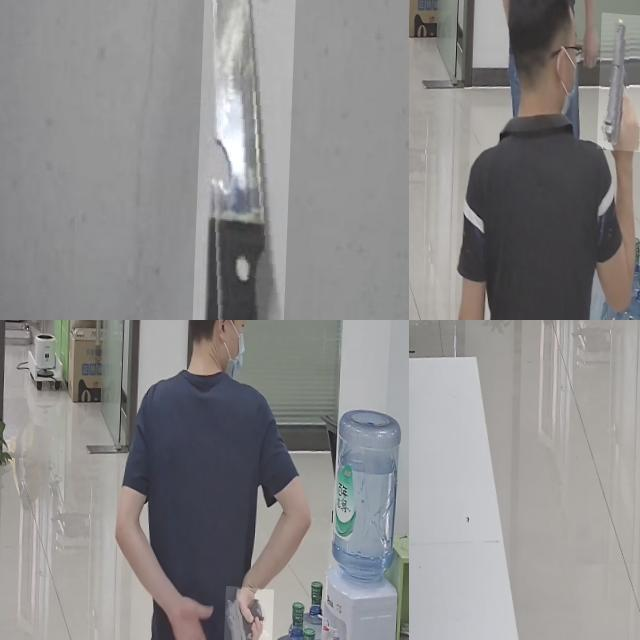-: (196, 0, 303, 320)
gun-knife-thesis - v11 Yolov5 augmented: (598, 5, 640, 144), (225, 579, 276, 640)
